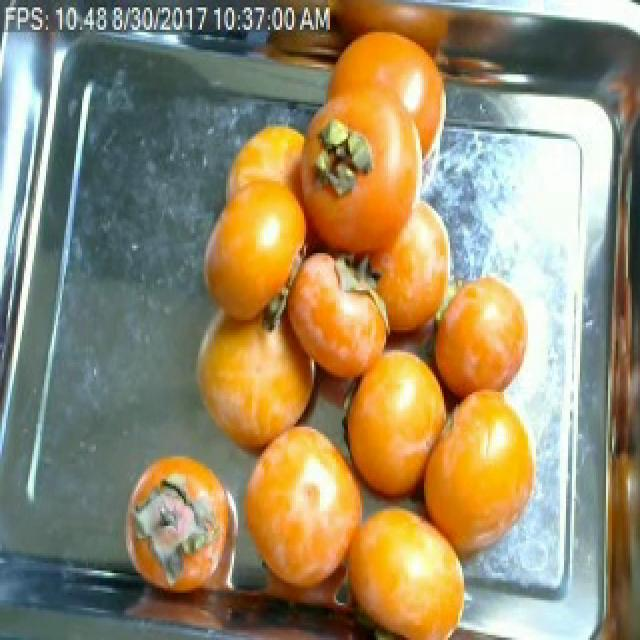Fruit: (326, 491, 480, 640), (426, 260, 540, 420)
